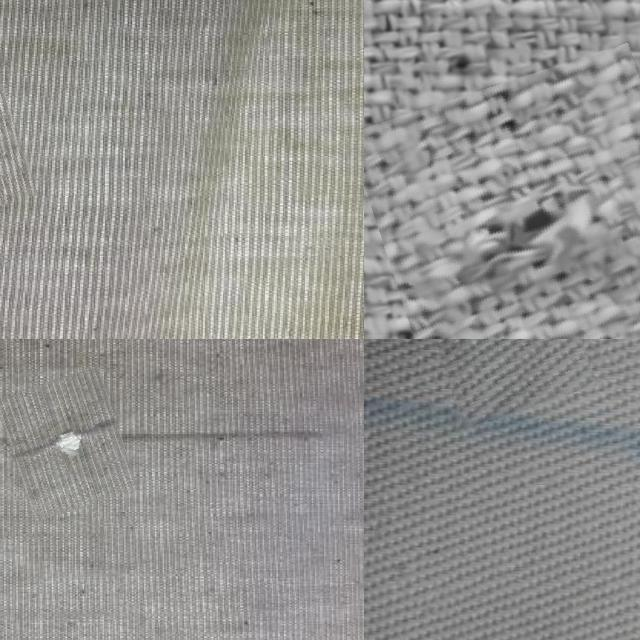other: (366, 61, 640, 339), (1, 372, 128, 516)
stains: (413, 339, 581, 419)
